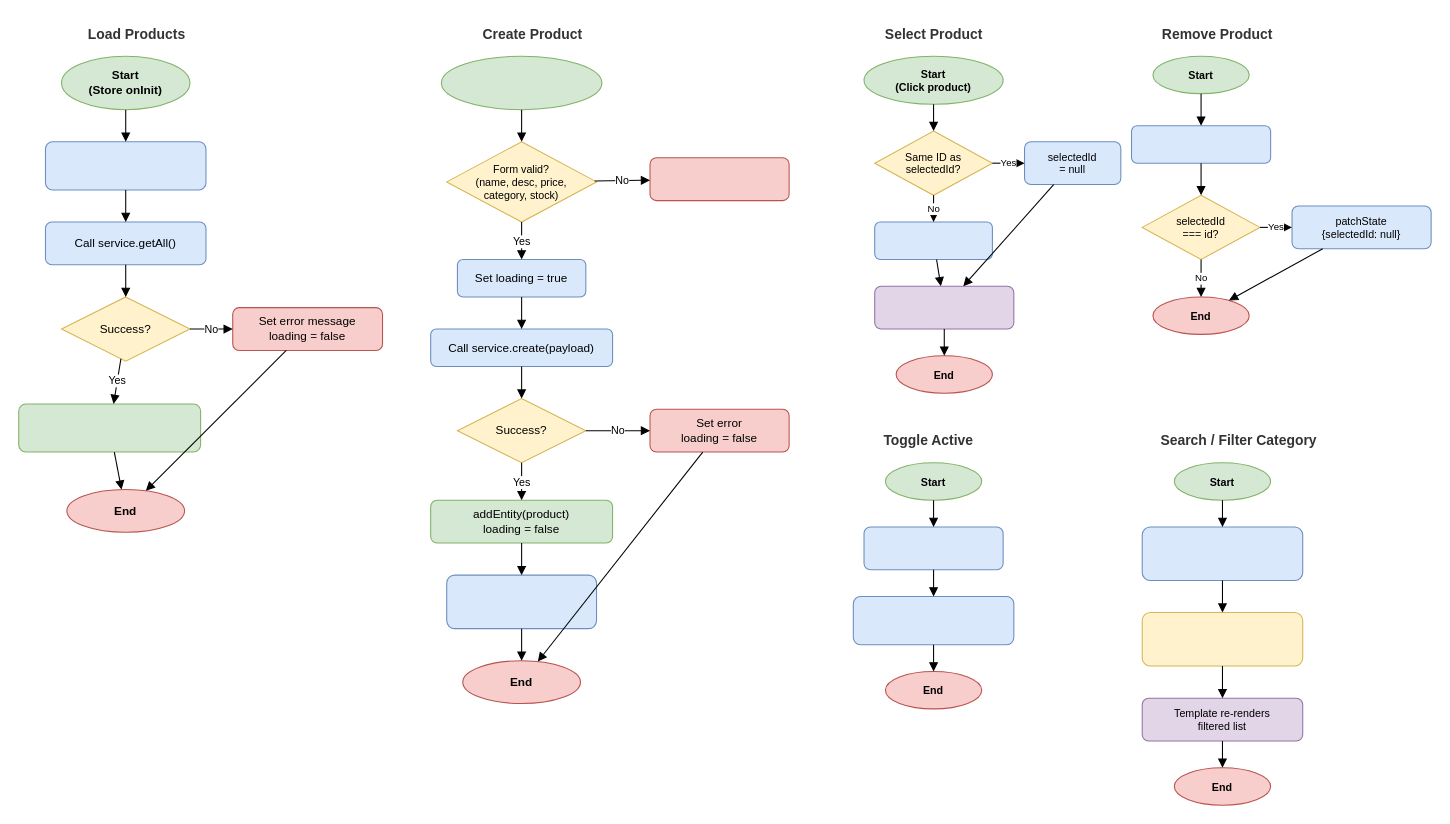
The diagram is 1450 pixels wide and 824 high, and some of its shapes have lost their labels. Here are the shapes that lost their labels. From the top down, the centre of each, then its label:
(521,82): Start (User clicks Submit)
(1200,144): removeEntity(id)
(125,165): Set loading = true error = null
(719,179): Show validation errors
(933,240): selectedId = id
(944,307): ProductDetail updates via signal
(109,427): setAllEntities(products) loading = false
(933,548): Get product from entityMap[id]
(1222,553): patchState ({searchQuery} or {filterCategory})
(521,601): Reset form (cat=electronics, price=0, stock=0)
(933,620): updateEntity({id, changes: {active: !active}})
(1222,639): filteredProducts() signal recomputes (memoized)
